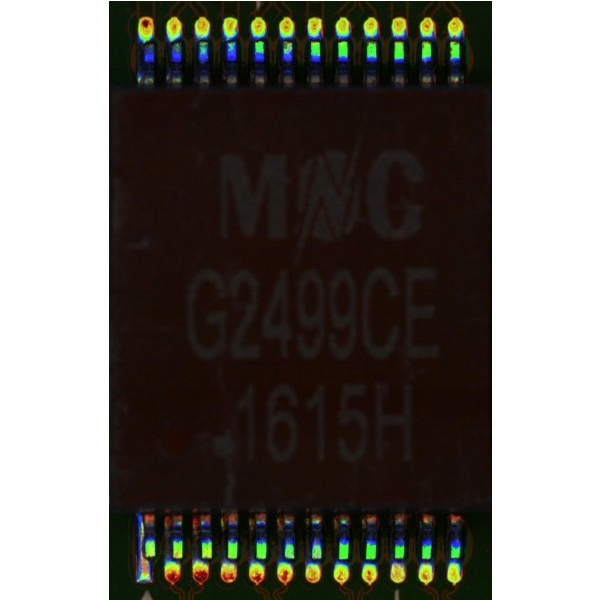Bad_qiaojiao: (139, 513, 144, 558)
